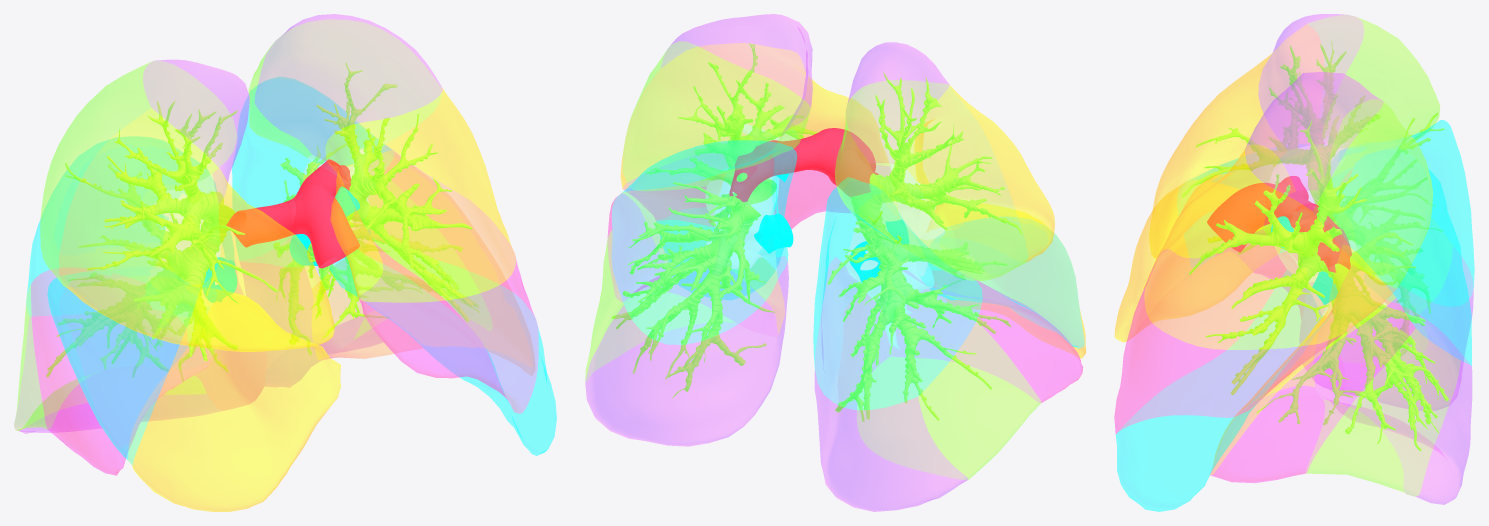
Rendered from lunge-male.glb.
3 views of the same model, side by side, from view 1: azimuth 30°, elevation 25°; view 2: azimuth 150°, elevation 25°; view 3: azimuth 270°, elevation 25° (orthographic). The views are drawn at different scales.
Visible parts, largest first — view 1: 0:34:VH_M_right_anterior_bronchopulmonary_segment, 0:22:VH_M_right_medial_bronchopulmonary_segment, 0:8:VH_M_left_anterior_bronchopulmonary_segment, 0:6:VH_M_left_lingula_superior_bronchopulmonary_segment, 0:21:VH_M_right_lateral_bronchopulmonary_segment, 0:26:VH_M_right_anterior_basal_bronchopulmonary_segment, 0:9:VH_M_left_apical_bronchopulmonary_segment, 0:33:VH_M_right_posterior_bronchopulmonary_segment, 0:30:VH_M_right_superior_bronchopulmonary_segment, 0:7:VH_M_left_posterior_bronchopulmonary_segment, 0:15:VH_M_left_medial_basal_bronchopulmonary_segment, 0:17:VH_M_left_superior_bronchopulmonary_segment (+28 smaller); view 2: 0:17:VH_M_left_superior_bronchopulmonary_segment, 0:33:VH_M_right_posterior_bronchopulmonary_segment, 0:30:VH_M_right_superior_bronchopulmonary_segment, 0:16:VH_M_left_posetrior_basal_bronchopulmonary_segment, 0:7:VH_M_left_posterior_bronchopulmonary_segment, 0:27:VH_M_right_lateral_basal_bronchopulmonary_segment, 0:8:VH_M_left_anterior_bronchopulmonary_segment, 0:29:VH_M_right_posterior_basal_bronchopulmonary_segment, 0:21:VH_M_right_lateral_bronchopulmonary_segment, 0:34:VH_M_right_anterior_bronchopulmonary_segment, 0:26:VH_M_right_anterior_basal_bronchopulmonary_segment, 0:22:VH_M_right_medial_bronchopulmonary_segment (+30 smaller); view 3: 0:8:VH_M_left_anterior_bronchopulmonary_segment, 0:6:VH_M_left_lingula_superior_bronchopulmonary_segment, 0:10:VH_M_left_lingula_inferior_bronchopulmonary_segment, 0:17:VH_M_left_superior_bronchopulmonary_segment, 0:7:VH_M_left_posterior_bronchopulmonary_segment, 0:14:VH_M_left_lateral_basal_bronchopulmonary_segment, 0:13:VH_M_left_anterior_basal_bronchopulmonary_segment, 0:16:VH_M_left_posetrior_basal_bronchopulmonary_segment, 0:34:VH_M_right_anterior_bronchopulmonary_segment, 0:9:VH_M_left_apical_bronchopulmonary_segment, 0:33:VH_M_right_posterior_bronchopulmonary_segment, 0:22:VH_M_right_medial_bronchopulmonary_segment (+27 smaller).
Boxes of the visible parts, bbox=[...] form: 0:34:VH_M_right_anterior_bronchopulmonary_segment: bbox=[59, 108, 334, 351]; 0:22:VH_M_right_medial_bronchopulmonary_segment: bbox=[128, 289, 340, 511]; 0:8:VH_M_left_anterior_bronchopulmonary_segment: bbox=[325, 88, 515, 302]; 0:6:VH_M_left_lingula_superior_bronchopulmonary_segment: bbox=[359, 145, 538, 413]; 0:21:VH_M_right_lateral_bronchopulmonary_segment: bbox=[47, 264, 197, 464]; 0:26:VH_M_right_anterior_basal_bronchopulmonary_segment: bbox=[31, 270, 186, 475]; 0:9:VH_M_left_apical_bronchopulmonary_segment: bbox=[255, 14, 442, 161]; 0:33:VH_M_right_posterior_bronchopulmonary_segment: bbox=[40, 61, 236, 287]; 0:30:VH_M_right_superior_bronchopulmonary_segment: bbox=[27, 136, 234, 316]; 0:7:VH_M_left_posterior_bronchopulmonary_segment: bbox=[248, 20, 441, 158]; 0:15:VH_M_left_medial_basal_bronchopulmonary_segment: bbox=[319, 152, 532, 366]; 0:17:VH_M_left_superior_bronchopulmonary_segment: bbox=[232, 77, 391, 260]; 0:17:VH_M_left_superior_bronchopulmonary_segment: bbox=[612, 140, 797, 344]; 0:33:VH_M_right_posterior_bronchopulmonary_segment: bbox=[835, 80, 1027, 280]; 0:30:VH_M_right_superior_bronchopulmonary_segment: bbox=[813, 177, 982, 409]; 0:16:VH_M_left_posetrior_basal_bronchopulmonary_segment: bbox=[585, 256, 788, 446]; 0:7:VH_M_left_posterior_bronchopulmonary_segment: bbox=[623, 41, 810, 190]; 0:27:VH_M_right_lateral_basal_bronchopulmonary_segment: bbox=[857, 321, 1040, 479]; 0:8:VH_M_left_anterior_bronchopulmonary_segment: bbox=[620, 43, 889, 189]; 0:29:VH_M_right_posterior_basal_bronchopulmonary_segment: bbox=[814, 257, 967, 511]; 0:21:VH_M_right_lateral_bronchopulmonary_segment: bbox=[921, 217, 1084, 348]; 0:34:VH_M_right_anterior_bronchopulmonary_segment: bbox=[907, 85, 1054, 261]; 0:26:VH_M_right_anterior_basal_bronchopulmonary_segment: bbox=[892, 280, 1083, 402]; 0:22:VH_M_right_medial_bronchopulmonary_segment: bbox=[927, 203, 1085, 358]; 0:8:VH_M_left_anterior_bronchopulmonary_segment: bbox=[1144, 145, 1395, 349]; 0:6:VH_M_left_lingula_superior_bronchopulmonary_segment: bbox=[1114, 229, 1395, 433]; 0:10:VH_M_left_lingula_inferior_bronchopulmonary_segment: bbox=[1115, 270, 1322, 511]; 0:17:VH_M_left_superior_bronchopulmonary_segment: bbox=[1333, 148, 1471, 365]; 0:7:VH_M_left_posterior_bronchopulmonary_segment: bbox=[1313, 100, 1432, 288]; 0:14:VH_M_left_lateral_basal_bronchopulmonary_segment: bbox=[1306, 329, 1460, 496]; 0:13:VH_M_left_anterior_basal_bronchopulmonary_segment: bbox=[1210, 298, 1415, 483]; 0:16:VH_M_left_posetrior_basal_bronchopulmonary_segment: bbox=[1314, 300, 1472, 504]; 0:34:VH_M_right_anterior_bronchopulmonary_segment: bbox=[1149, 24, 1323, 258]; 0:9:VH_M_left_apical_bronchopulmonary_segment: bbox=[1245, 72, 1383, 210]; 0:33:VH_M_right_posterior_bronchopulmonary_segment: bbox=[1308, 15, 1440, 147]; 0:22:VH_M_right_medial_bronchopulmonary_segment: bbox=[1114, 183, 1280, 342].
Bounding box in the file's own units: 0.2594 × 0.2291 × 0.1897.
